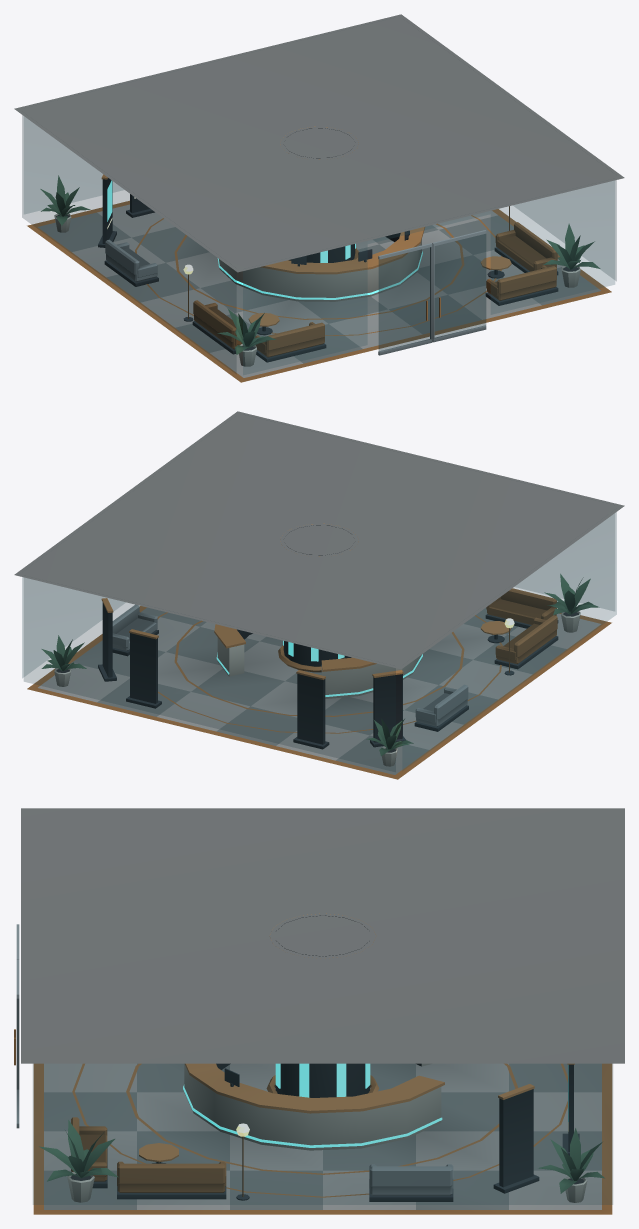
The model's file is lobby-agent.lod1.glb.
The picture shows the model from 3 angles, top to bottom: view 1: azimuth 30°, elevation 25°; view 2: azimuth 150°, elevation 25°; view 3: azimuth 270°, elevation 25°; orthographic projection. The views are drawn at different scales.
Parts seen in each view (by area): view 1: structure, door_0_l, door_0_r, foliage; view 2: structure, foliage; view 3: structure, foliage, door_0_r.
Part boxes in pixels (left/top/right/bottom): structure: left=14, top=14, right=624, bottom=382; door_0_l: left=378, top=243, right=432, bottom=355; door_0_r: left=432, top=230, right=486, bottom=342; foliage: left=40, top=175, right=600, bottom=354; structure: left=14, top=411, right=624, bottom=779; foliage: left=41, top=573, right=599, bottom=755; structure: left=21, top=808, right=624, bottom=1214; foliage: left=39, top=1120, right=604, bottom=1193; door_0_r: left=14, top=959, right=19, bottom=1128.
Bounding box in the file's own units: 14.36 × 4.12 × 14.53.
